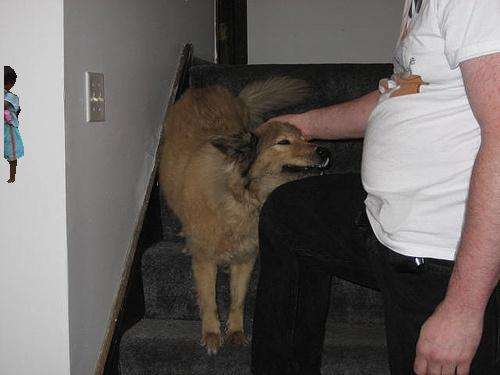tampered: (5, 67, 24, 183)
